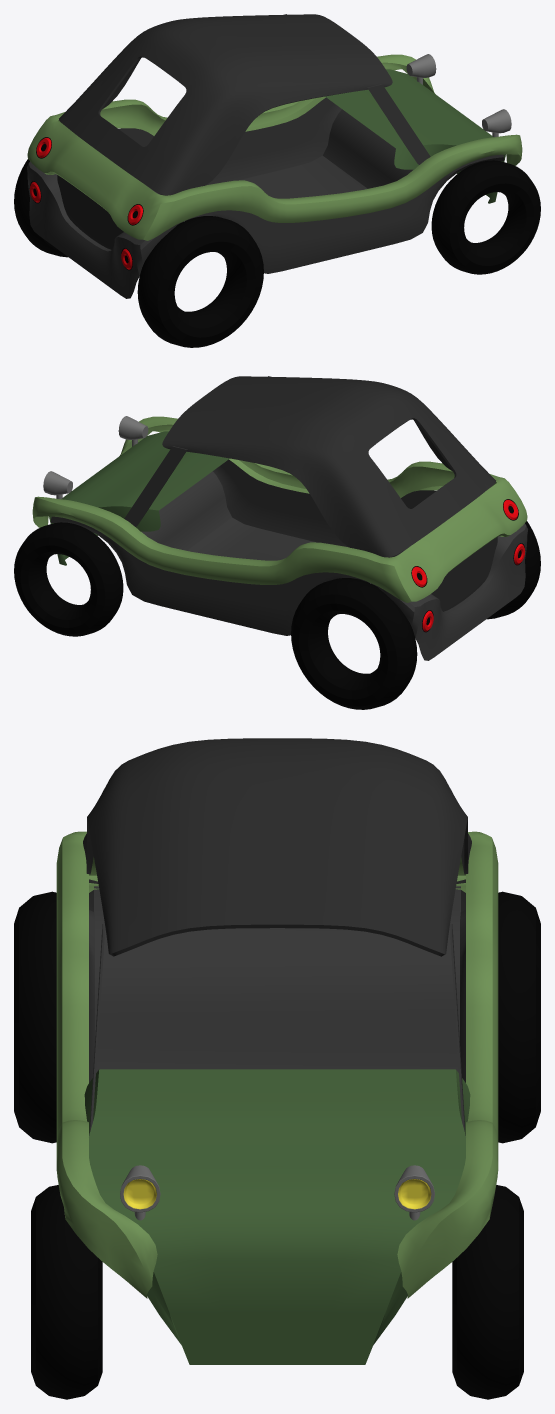
The model's file is Buggy.fbx.
3 views of the same model, one above another, from view 1: azimuth 30°, elevation 25°; view 2: azimuth 150°, elevation 25°; view 3: azimuth 270°, elevation 25° (orthographic). The views are drawn at different scales.
Parts seen in each view (by area): view 1: Techo, Ruedas, Base, Plane.007, Base.001, Capo, Plane.011, Plane.010, Luces, Circle.004; view 2: Techo, Ruedas, Base, Plane.007, Base.001, Capo, Plane.011, Plane.010, Luces, Circle.004; view 3: Capo, Techo, Base.001, Ruedas, Plane.007, Luces, Base, Plane.010.
Boxes of the visible parts, x1,y1,x2,y2 form: Techo: (59,14,392,195); Ruedas: (14,159,540,347); Base: (27,97,504,298); Plane.007: (27,54,522,240); Base.001: (147,109,413,198); Capo: (325,69,505,203); Plane.011: (57,175,123,249); Plane.010: (283,14,430,164); Luces: (406,54,511,137); Circle.004: (29,137,143,270); Techo: (162,376,495,557); Ruedas: (14,521,540,709); Base: (50,459,527,660); Plane.007: (32,416,527,602); Base.001: (141,471,407,560); Capo: (49,431,229,565); Plane.011: (431,537,497,611); Plane.010: (124,376,271,526); Luces: (43,416,148,499); Circle.004: (411,499,525,632); Capo: (84,1069,470,1364); Techo: (83,738,471,956); Base.001: (94,886,460,1072); Ruedas: (14,891,540,1399); Plane.007: (56,831,498,1298); Luces: (120,1165,434,1220); Base: (89,879,465,1135); Plane.010: (90,924,464,1131).
Size of the model in its own units: 391 by 227 by 245.
